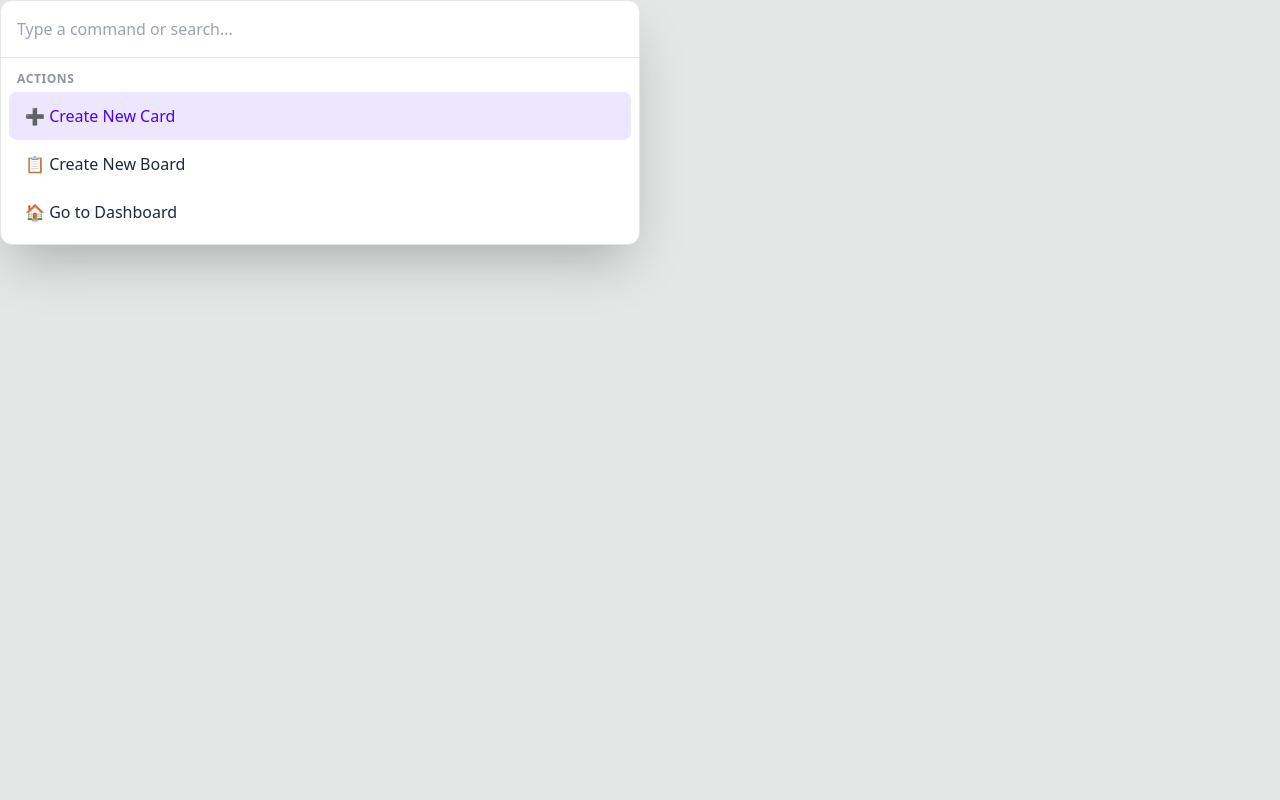
it: CommandPalette › should show "No results found" for non-matching query
The width and height of the screenshot is (1280, 800).
Type "xyznonexistent" into the dropdown with placeholder "Type a command or search..." at (320, 30), box [1,1,639,58]
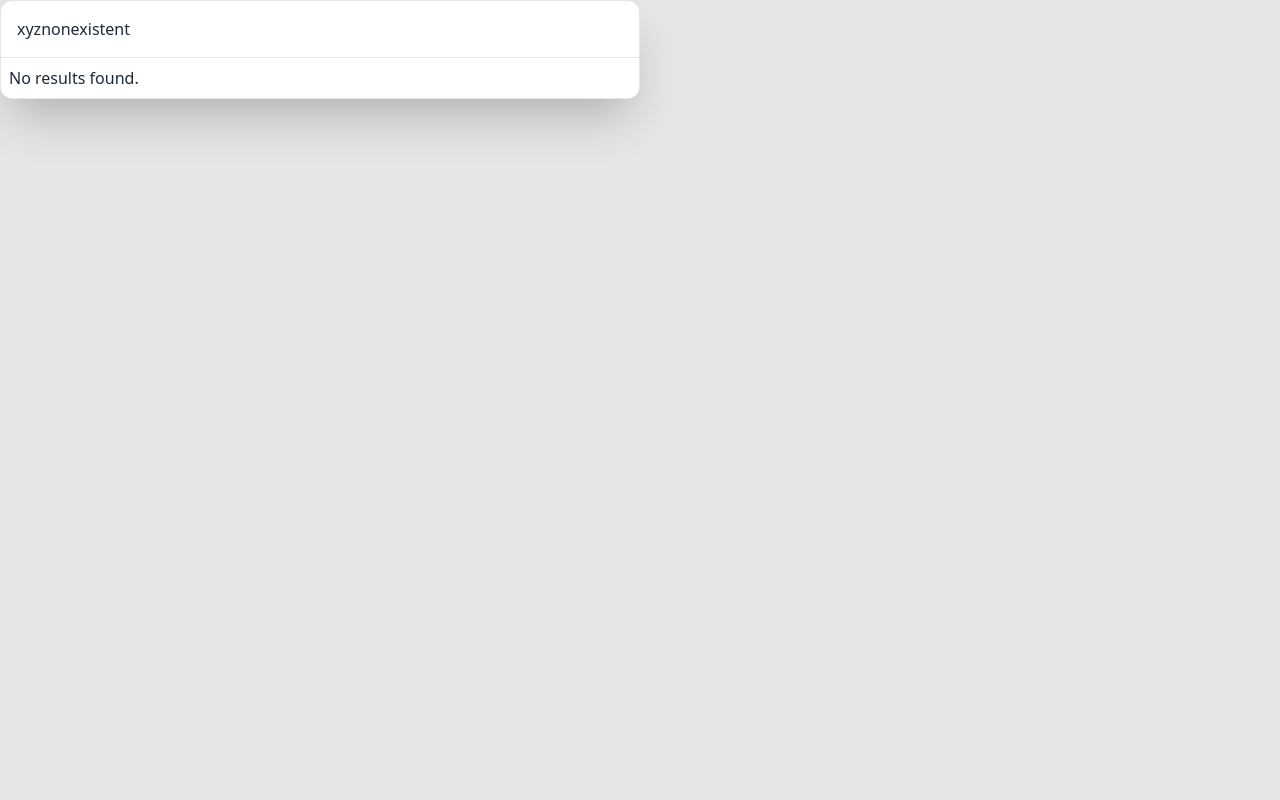
Check: the text "No results found." is shown, box [9,67,139,89]
